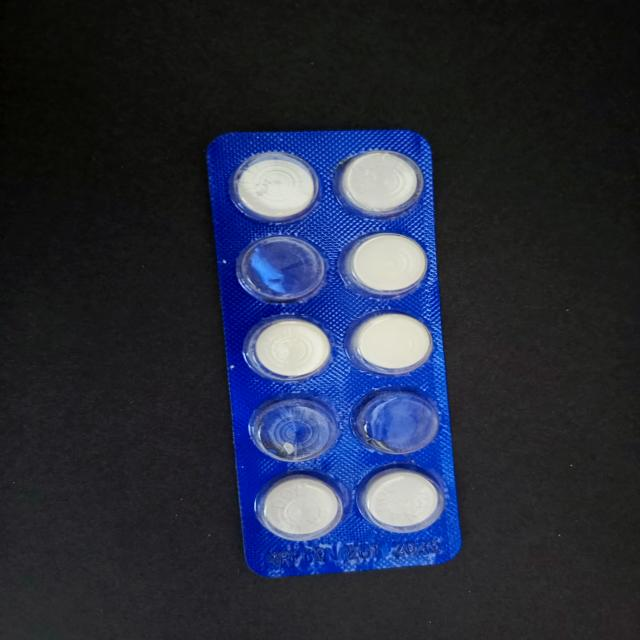defect: (233, 233, 330, 306), (245, 392, 342, 464), (348, 387, 442, 457)
